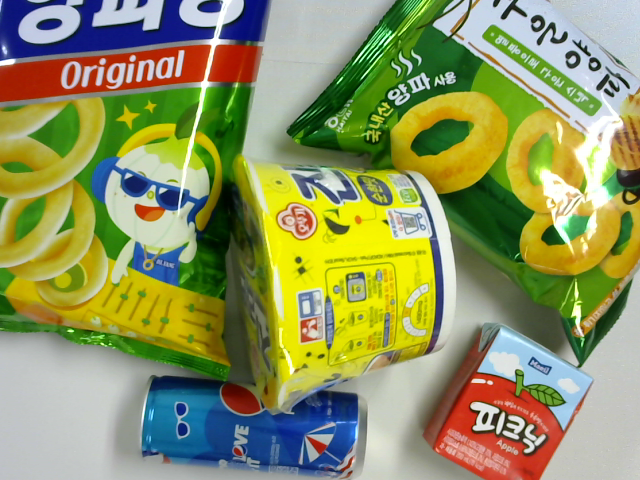Grilled_Onions: (288, 2, 640, 371)
Jinlamyeon_Mild_Taste_Large_Cup: (231, 154, 458, 418)
Oninon_Ring: (1, 1, 272, 381)
Pepsi_Cola_Can_250ml: (137, 375, 369, 480)
Picnic_Apple: (422, 321, 594, 480)
